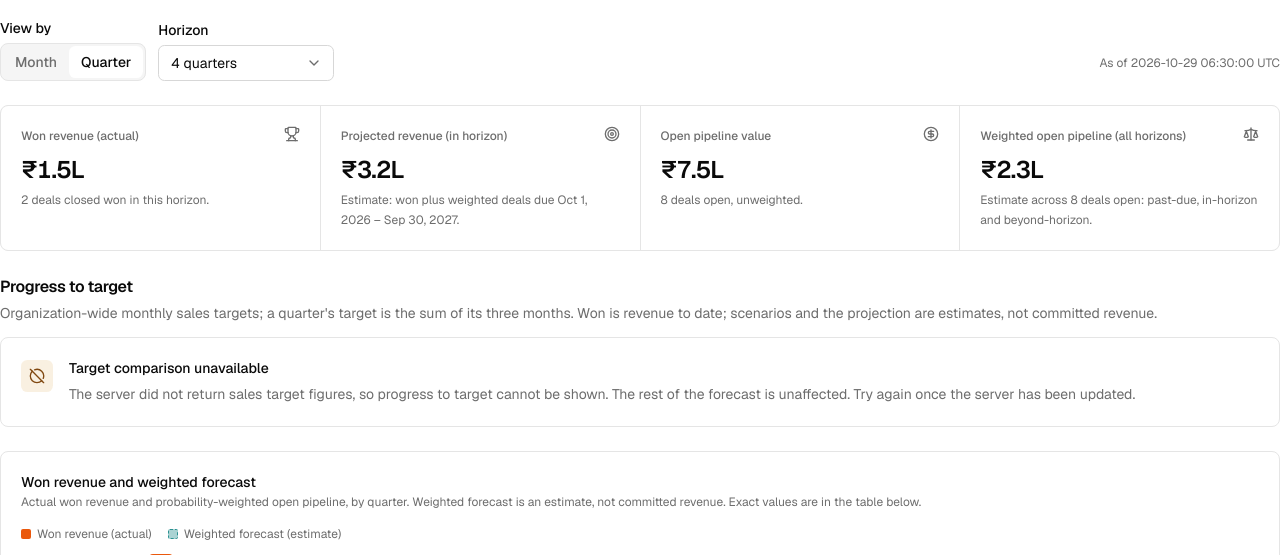
Forecast page › aborts a superseded request and never shows the previous horizon's figures
Step 1. Click the button "Month" → (36, 62), box left=3, top=46, right=69, bottom=78
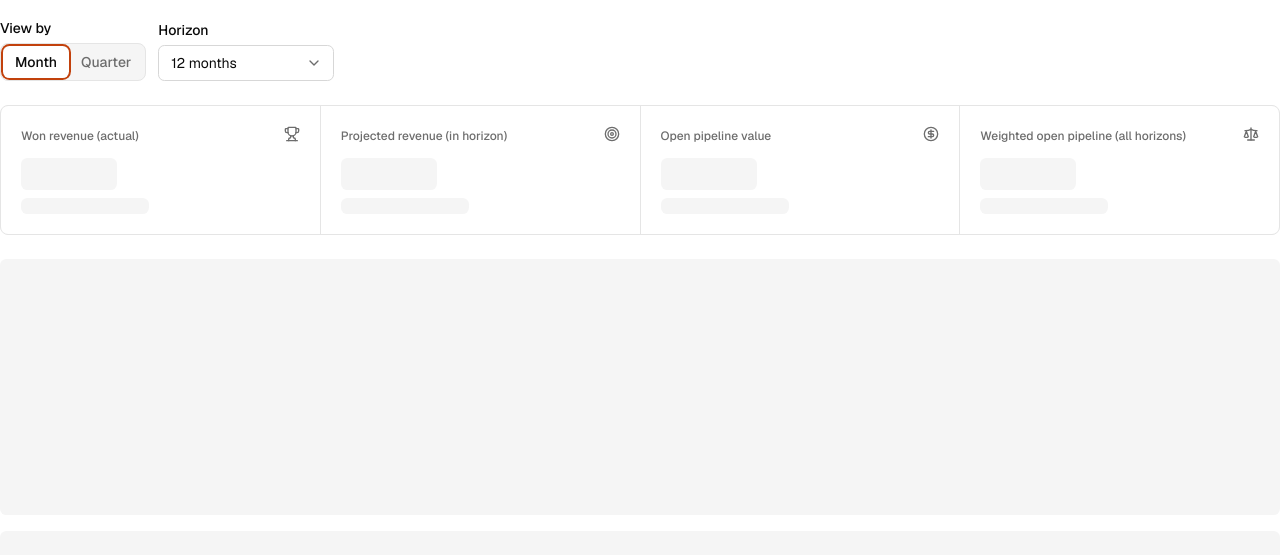
Check: the field labelled "₹1,50,000.00" is not shown
Going back cancels the pending month request and reuses the cached quarter.
Step 2. Click the button "Quarter" → (106, 62), box left=69, top=46, right=143, bottom=78
(page scrolled)
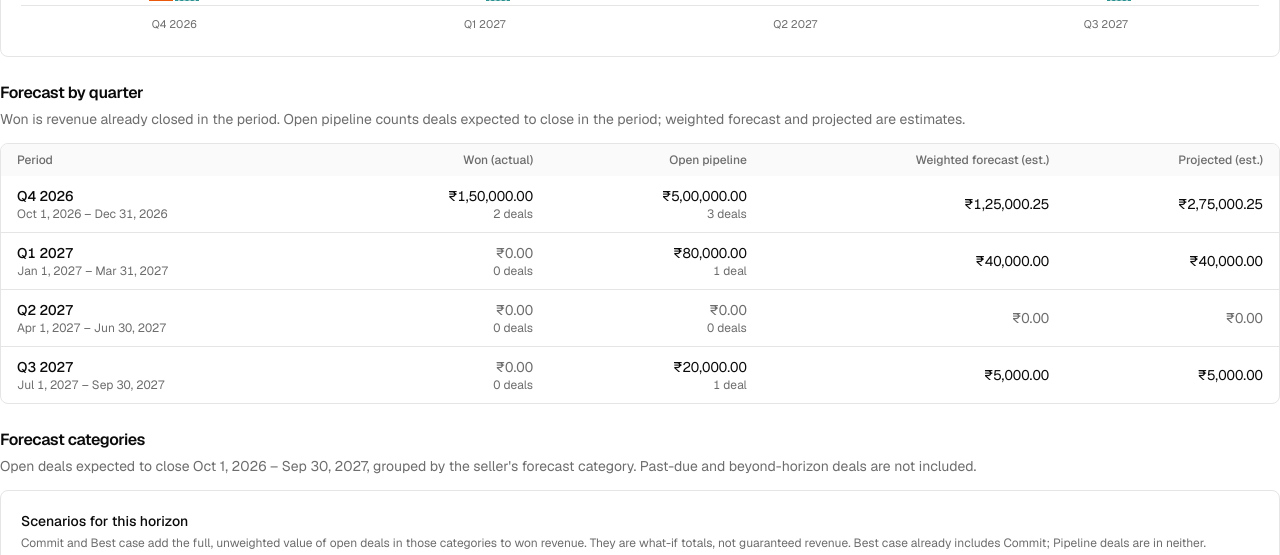
Check: the table is shown, box left=1, top=144, right=1279, bottom=403
